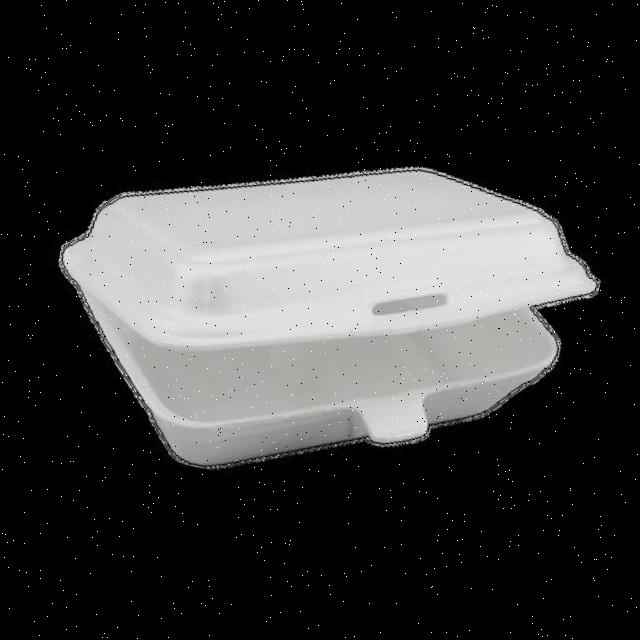styrofoam: (22, 99, 618, 538)
